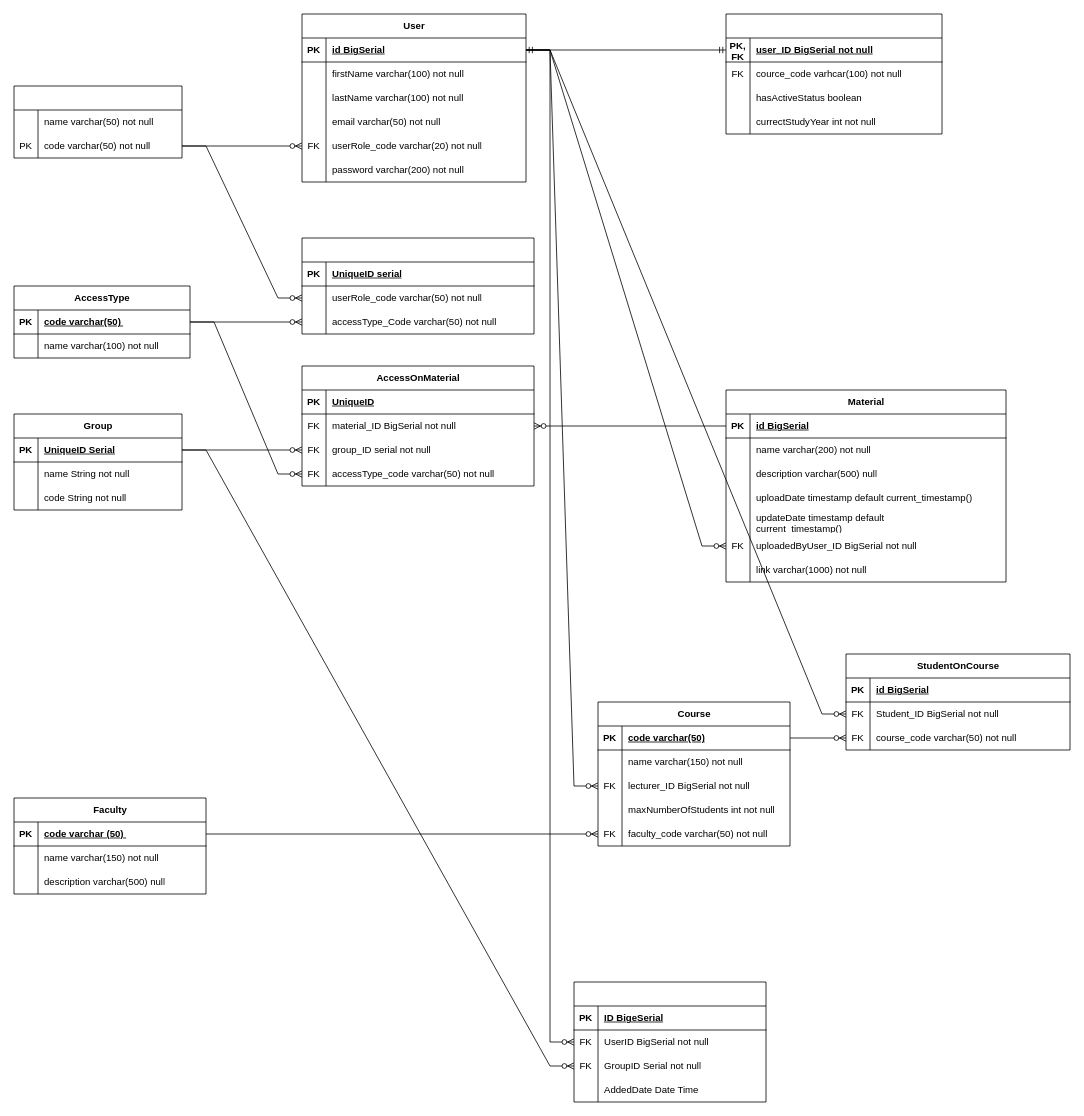
This 1084x1116 diagram has some shape labels left out. Here are the shapes that lost their labels. From the top down, the box of each, then its label:
(725, 13, 942, 134): StudentAdditionalInfo
(13, 85, 182, 158): UserRole
(301, 237, 534, 334): PermissionGroup
(573, 981, 766, 1102): StudentGroup
